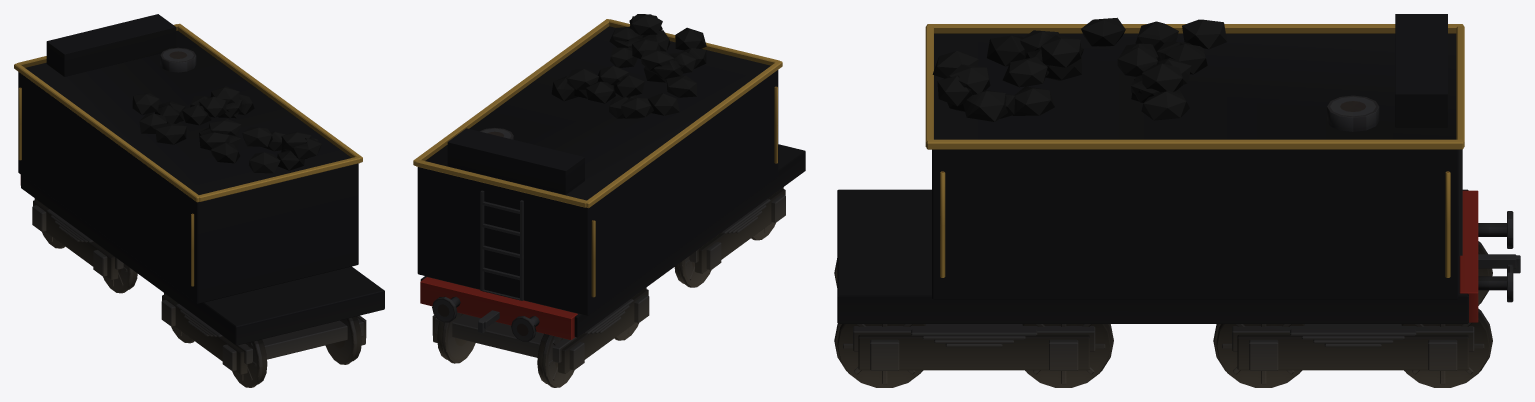
Rendered from tren_tender.glb.
3 views of the same model, side by side, from view 1: azimuth 30°, elevation 25°; view 2: azimuth 150°, elevation 25°; view 3: azimuth 270°, elevation 25° (orthographic). The views are drawn at different scales.
Parts seen in each view (by area): view 1: dark-frame-001, stone-coal-001, dark-fittings-002, dark-004, dark-009, dark-wheel-006, dark-wheel-005, dark-wheel-010; view 2: dark-frame-001, stone-coal-001, dark-fittings-002, dark-buffers-003, dark-009, dark-004, dark-wheel-012, dark-wheel-013, dark-wheel-007; view 3: dark-frame-001, stone-coal-001, dark-004, dark-009, dark-fittings-002, dark-buffers-003, dark-wheel-013, dark-wheel-006, dark-wheel-011, dark-wheel-008.
Part boxes in pixels (x1=…): dark-frame-001: x1=14, y1=23, x2=384, y2=345; stone-coal-001: x1=132, y1=86, x2=321, y2=173; dark-fittings-002: x1=18, y1=14, x2=196, y2=286; dark-004: x1=161, y1=293, x2=366, y2=374; dark-009: x1=32, y1=198, x2=123, y2=280; dark-wheel-006: x1=325, y1=316, x2=361, y2=364; dark-wheel-005: x1=232, y1=339, x2=267, y2=387; dark-wheel-010: x1=103, y1=263, x2=137, y2=293; dark-frame-001: x1=413, y1=19, x2=805, y2=337; stone-coal-001: x1=551, y1=14, x2=706, y2=118; dark-fittings-002: x1=447, y1=86, x2=777, y2=300; dark-buffers-003: x1=420, y1=277, x2=577, y2=341; dark-009: x1=432, y1=287, x2=649, y2=373; dark-004: x1=689, y1=187, x2=785, y2=273; dark-wheel-012: x1=537, y1=333, x2=574, y2=387; dark-wheel-013: x1=437, y1=312, x2=475, y2=363; dark-wheel-007: x1=674, y1=256, x2=711, y2=287; dark-frame-001: x1=837, y1=24, x2=1468, y2=323; stone-coal-001: x1=932, y1=17, x2=1226, y2=121; dark-004: x1=853, y1=324, x2=1095, y2=370; dark-009: x1=1232, y1=324, x2=1474, y2=370; dark-fittings-002: x1=940, y1=14, x2=1462, y2=277; dark-buffers-003: x1=1459, y1=190, x2=1520, y2=322; dark-wheel-013: x1=1401, y1=308, x2=1492, y2=387; dark-wheel-006: x1=834, y1=324, x2=925, y2=387; dark-wheel-011: x1=1213, y1=324, x2=1304, y2=387; dark-wheel-008: x1=1022, y1=324, x2=1113, y2=387.
Size of the model in its own units: 2.68 by 3.25 by 6.52.
